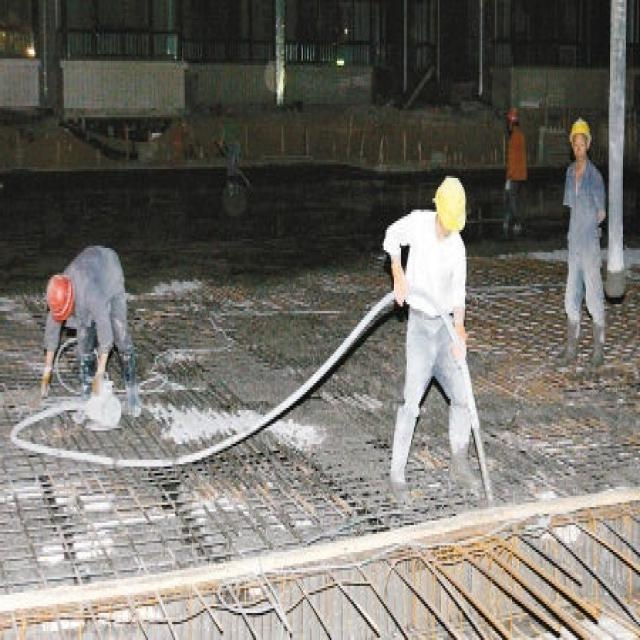Con_Casco: (436, 177, 469, 236), (569, 118, 593, 154)
